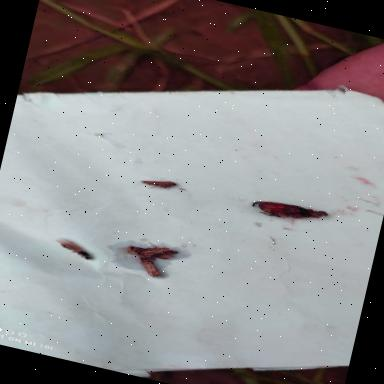pbw: (139, 174, 177, 194), (136, 240, 170, 262), (136, 256, 164, 278)
